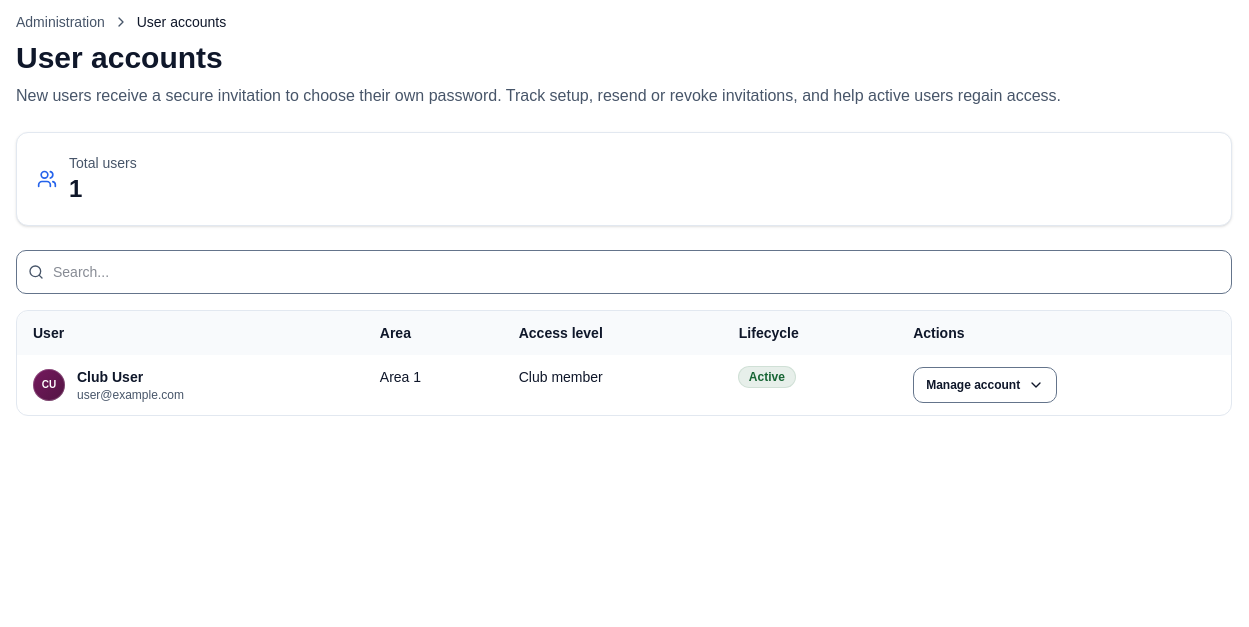
Test: administrator account management › shows every granted user-account action
This screenshot has width=1249, height=627.
Expected: the text "Club User" is shown, [77,369,143,385]
Step 1. Click the button with aria-label "Manage account for Club User" → (985, 385), box [913,367,1057,403]
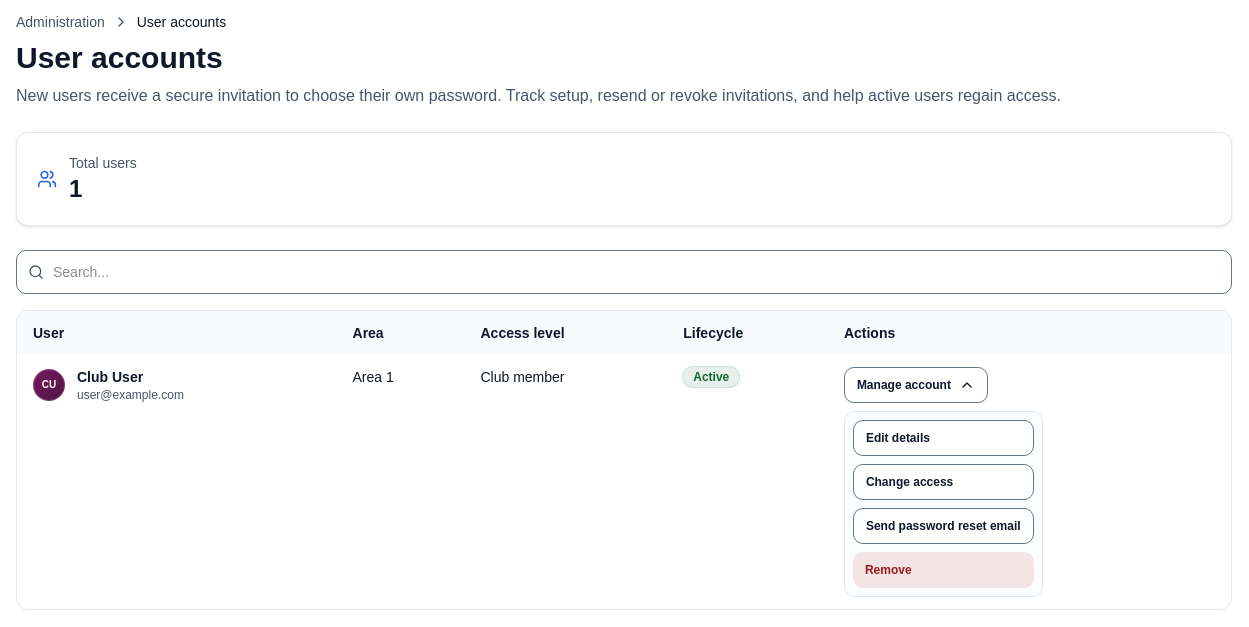
Expected: the button "Edit details" is shown, [853,420,1034,456]
Expected: the button "Change access" is shown, [853,464,1034,500]
Expected: the button "Send password reset email" is shown, [853,508,1034,544]
